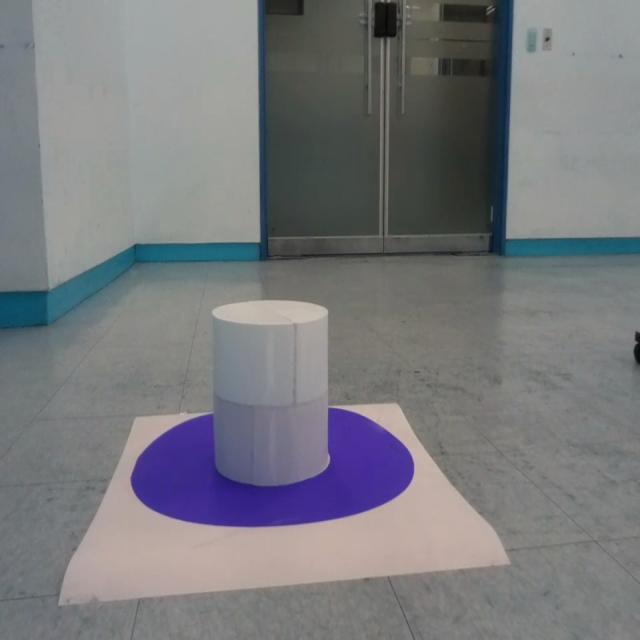cylinder: (212, 299, 330, 486)
